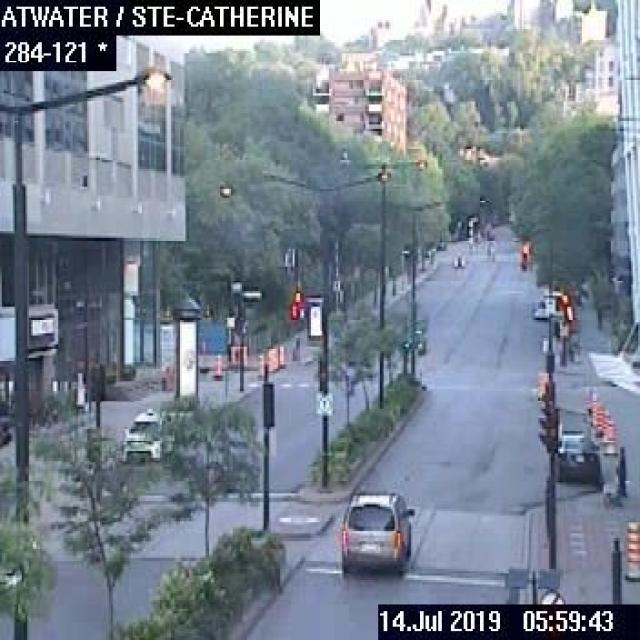construction: (622, 516, 638, 580), (604, 416, 614, 456), (593, 402, 603, 436), (537, 368, 545, 400), (213, 352, 221, 377), (266, 347, 272, 371), (256, 352, 262, 376), (271, 346, 277, 369), (277, 344, 283, 367)
vehicle: (336, 486, 414, 576), (119, 407, 174, 462), (553, 427, 598, 482), (534, 296, 548, 318), (452, 253, 464, 267)
